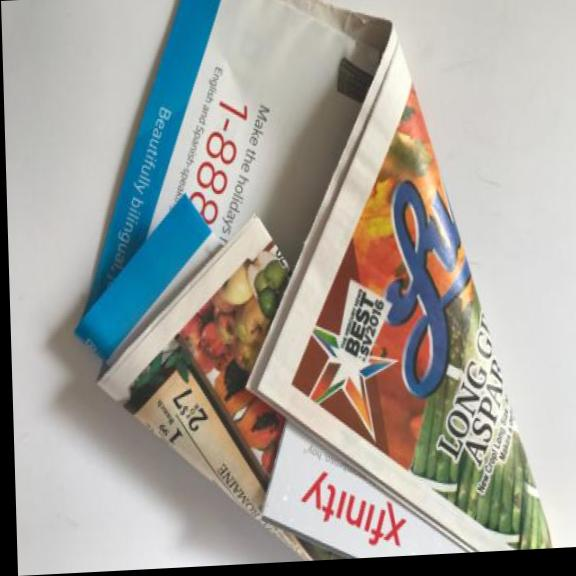Kertas: (58, 0, 554, 573)
